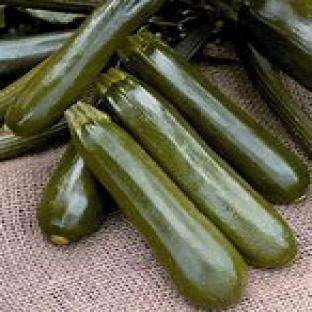Zucchini: (99, 70, 297, 267), (67, 104, 245, 308), (120, 33, 309, 202), (240, 43, 311, 156), (39, 144, 108, 245), (0, 31, 72, 78), (0, 62, 44, 124), (0, 122, 68, 160)
